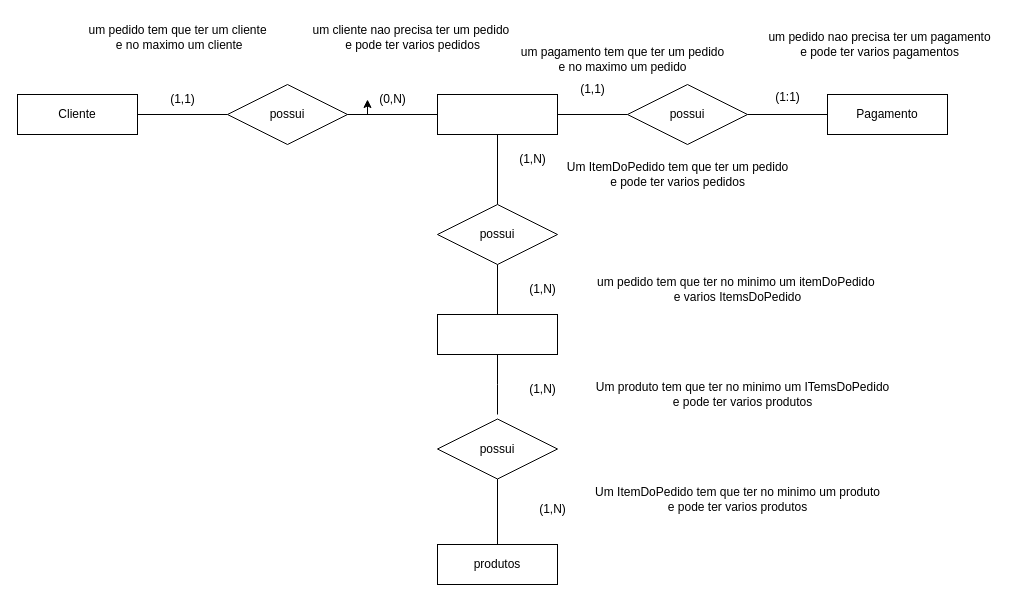
Image size: 1022x602. Some labels were removed from this diagram. Here are the shapes that lost their labels. From the top down, the box of each, then its label:
(436, 94, 558, 134): Pedidos
(436, 314, 558, 354): ItemsDoPedido
